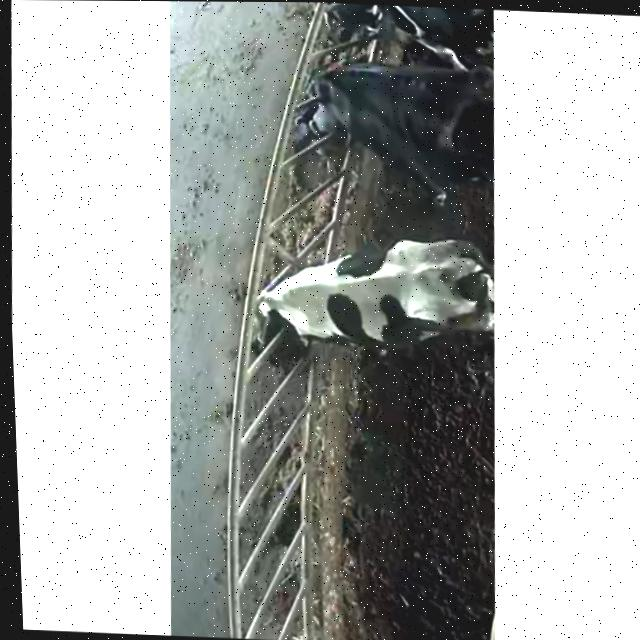eat: (261, 44, 410, 170), (225, 252, 362, 358), (302, 2, 466, 38)
